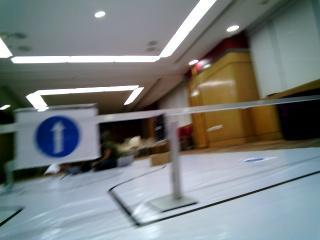straight: (17, 108, 98, 157)
